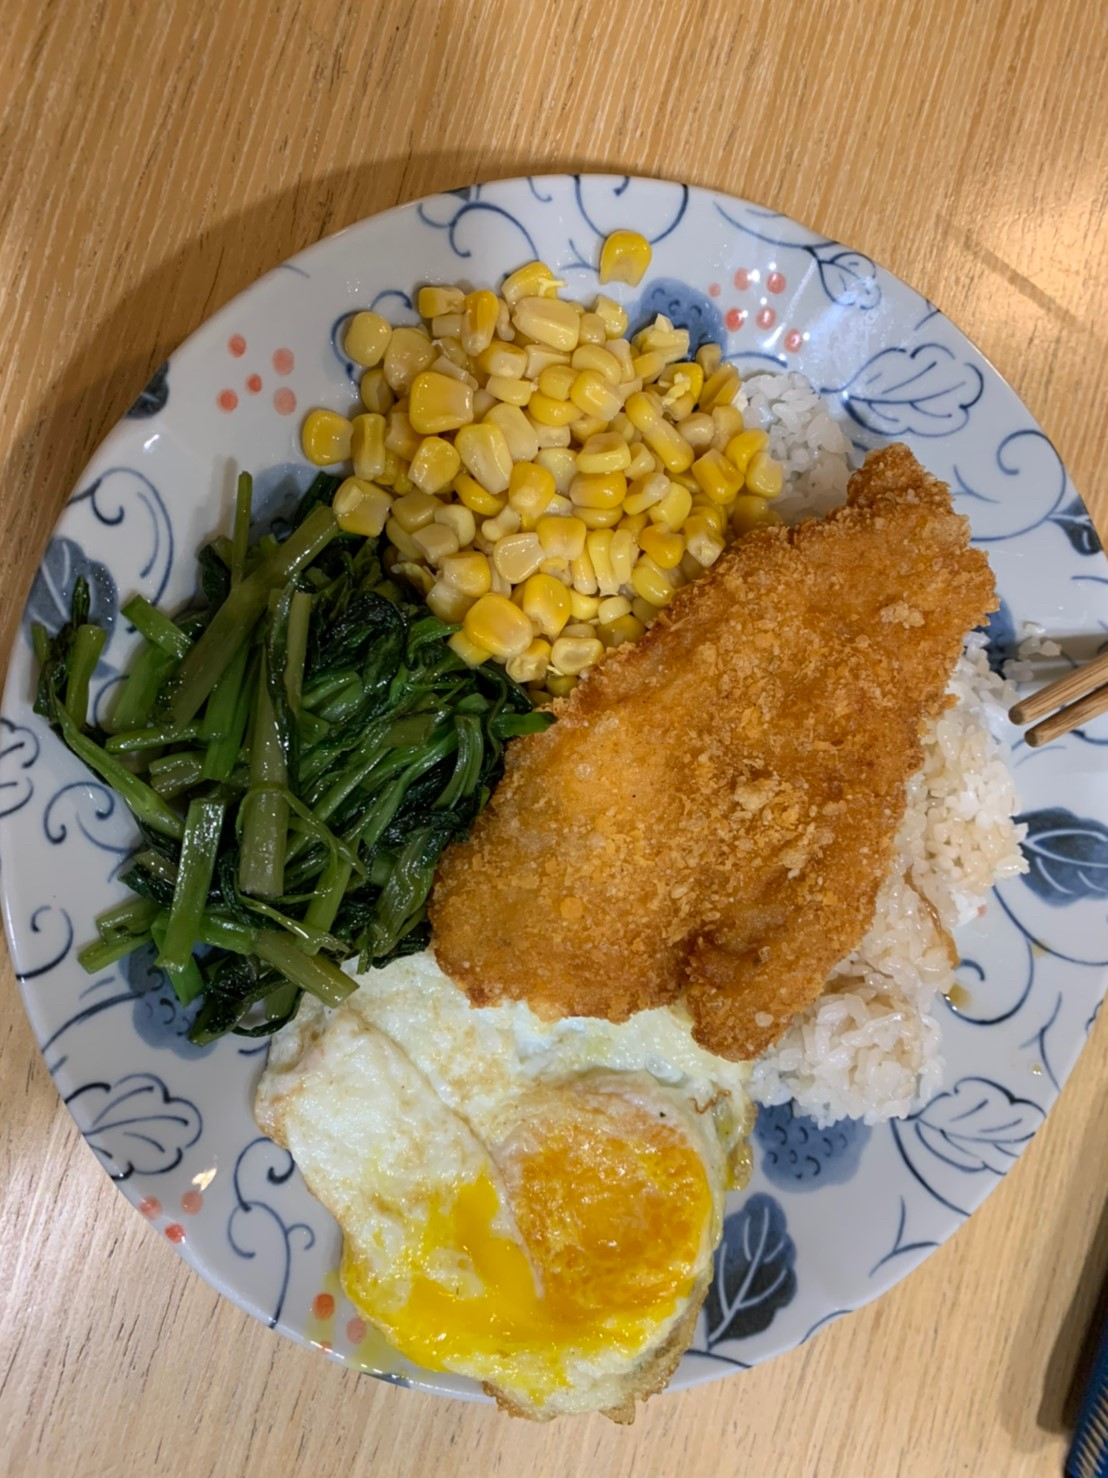fried_chicken: (433, 450, 993, 1044)
fried_eggs: (267, 994, 740, 1404)
rice: (774, 659, 1014, 1128)
water_spinach: (68, 485, 466, 1001)
